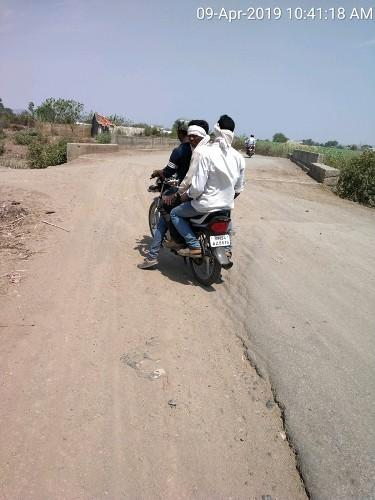plate: (207, 230, 237, 252)
